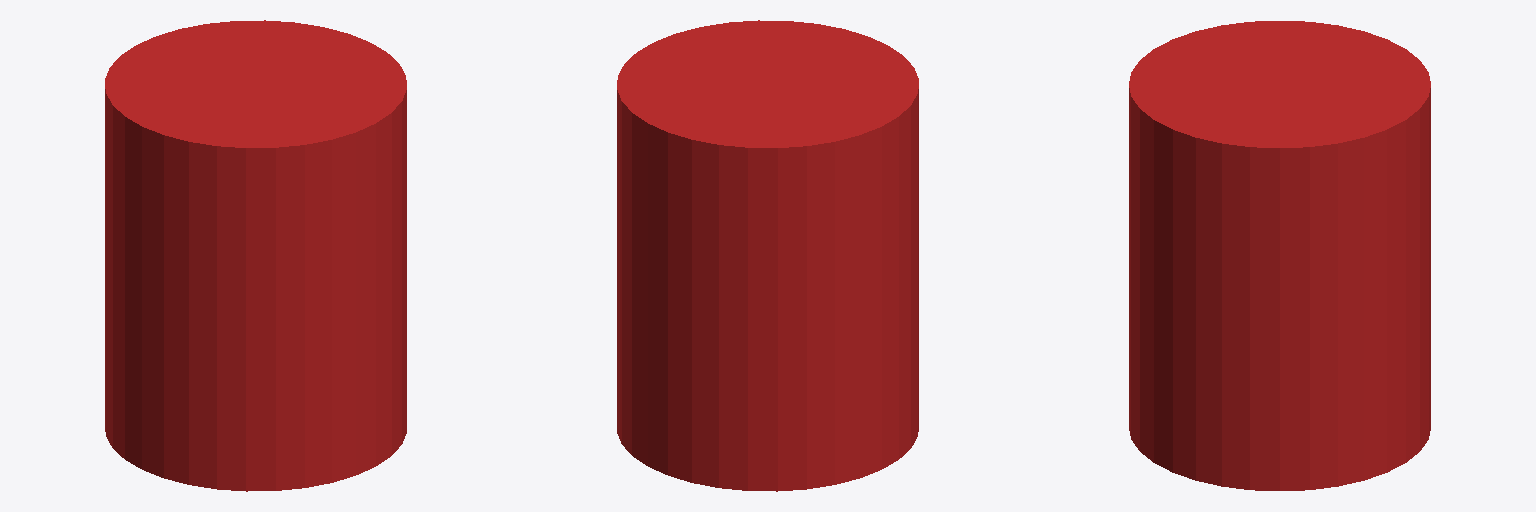
The robot description file, URDF, robot "robotiq_epick":
<?xml version="1.0"?>
<robot name="robotiq_epick">
  <link name="gripper_base">
    <visual>
      <geometry>
        <cylinder length="0.1" radius="0.04"/>
      </geometry>
      <material name="red">
        <color rgba="0.8 0.2 0.2 1"/>
      </material>
    </visual>
    <collision>
      <geometry>
        <cylinder length="0.1" radius="0.04"/>
      </geometry>
    </collision>
    <inertial>
      <mass value="0.4"/>
      <inertia ixx="0.001" ixy="0" ixz="0" iyy="0.001" iyz="0" izz="0.001"/>
    </inertial>
  </link>
  <!-- Add more links/joints for real gripper -->
</robot>

--- Render facts (derived) ---
Views: 3 orthographic renders of the robot side by side, from view 1: azimuth 30°, elevation 25°; view 2: azimuth 150°, elevation 25°; view 3: azimuth 270°, elevation 25°.
Robot: robotiq_epick — 1 links, 0 joints (none); root link gripper_base; default pose: every joint at zero.
Visible links, largest first — view 1: gripper_base; view 2: gripper_base; view 3: gripper_base.
Link boxes in pixels (<box>): gripper_base: <box>105,20,406,491</box>; gripper_base: <box>617,20,918,491</box>; gripper_base: <box>1129,21,1430,490</box>.
Bounding box of the posed robot: 0.08 × 0.08 × 0.1 m (x, y, z).
Geometry: primitives only (box / cylinder / sphere), no mesh files.